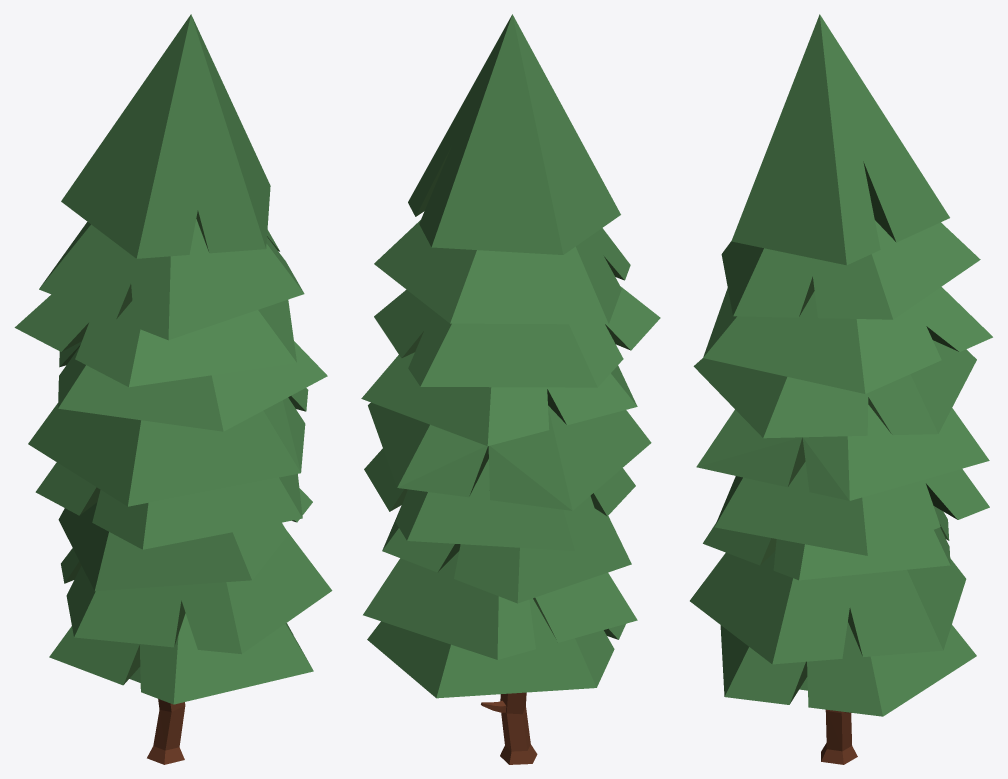
Rendered from 1-1treeC.fbx.
3 views of the same model, side by side, from view 1: azimuth 30°, elevation 25°; view 2: azimuth 150°, elevation 25°; view 3: azimuth 270°, elevation 25° (orthographic). The views are drawn at different scales.
Visible parts, largest first — view 1: Pine_Variant_A_Adult_D.006; view 2: Pine_Variant_A_Adult_D.006; view 3: Pine_Variant_A_Adult_D.006.
Boxes of the visible parts, <box> form: Pine_Variant_A_Adult_D.006: <box>14,14,332,764</box>; Pine_Variant_A_Adult_D.006: <box>361,14,660,764</box>; Pine_Variant_A_Adult_D.006: <box>690,14,992,764</box>.
Size of the model in its own units: 499 by 1348 by 495.
